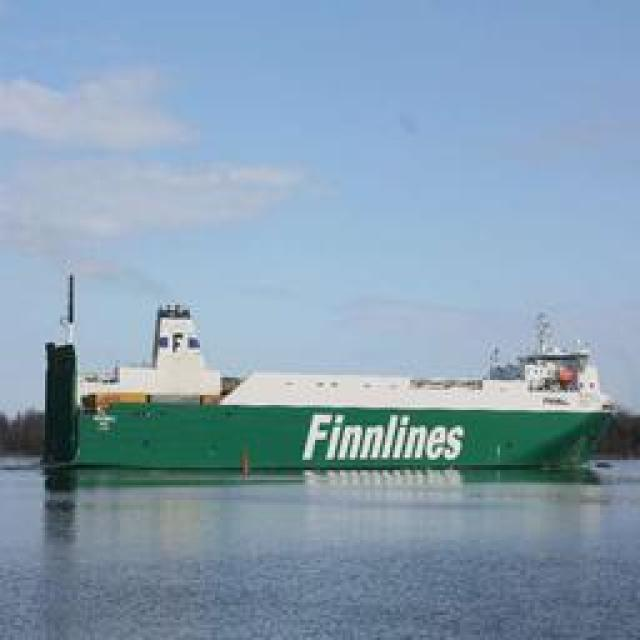CIV_Ship: (45, 290, 618, 478)
